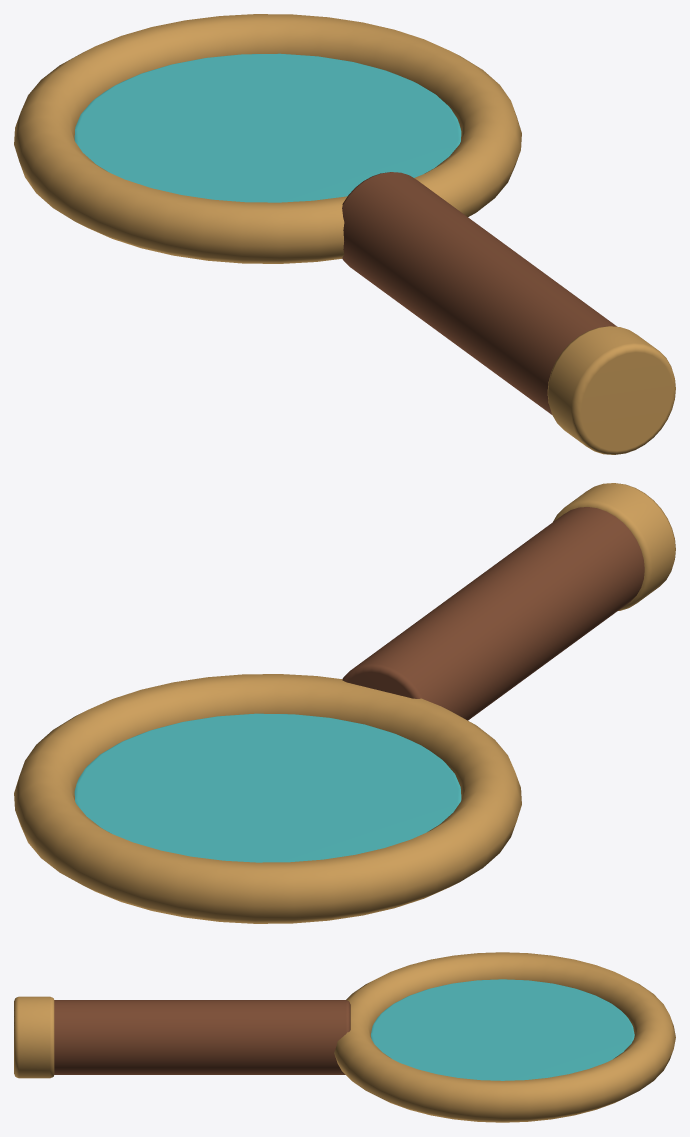
Rendered from item_magnifier.glb.
The picture shows the model from 3 angles, top to bottom: view 1: azimuth 30°, elevation 25°; view 2: azimuth 150°, elevation 25°; view 3: azimuth 270°, elevation 25°; orthographic projection. The views are drawn at different scales.
Parts seen in each view (by area): view 1: Lens_frame, Lens, Handle, Handle_end; view 2: Lens_frame, Lens, Handle, Handle_end; view 3: Lens_frame, Handle, Lens, Handle_end.
Boxes of the visible parts, box(x1,y1,x2,y2) form: Lens_frame: box(14, 14, 521, 263); Lens: box(74, 53, 461, 202); Handle: box(342, 172, 617, 414); Handle_end: box(547, 326, 675, 454); Lens_frame: box(14, 674, 521, 923); Lens: box(74, 713, 461, 862); Handle: box(342, 507, 644, 720); Handle_end: box(553, 483, 675, 610); Lens_frame: box(334, 952, 675, 1122); Handle: box(54, 1000, 350, 1074); Lens: box(371, 979, 634, 1080); Handle_end: box(14, 996, 54, 1078).
Size of the model in its own units: 0.296 by 0.07 by 0.5655.
